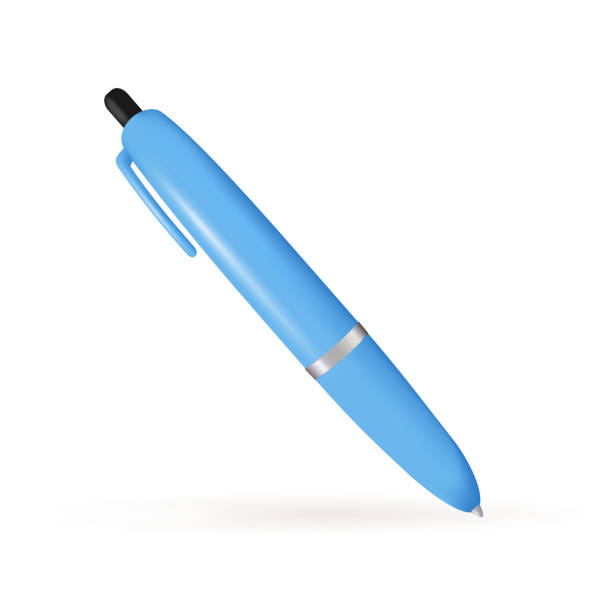pen: (97, 82, 498, 534)
